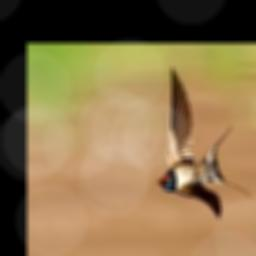Swallow: (157, 67, 251, 220)
